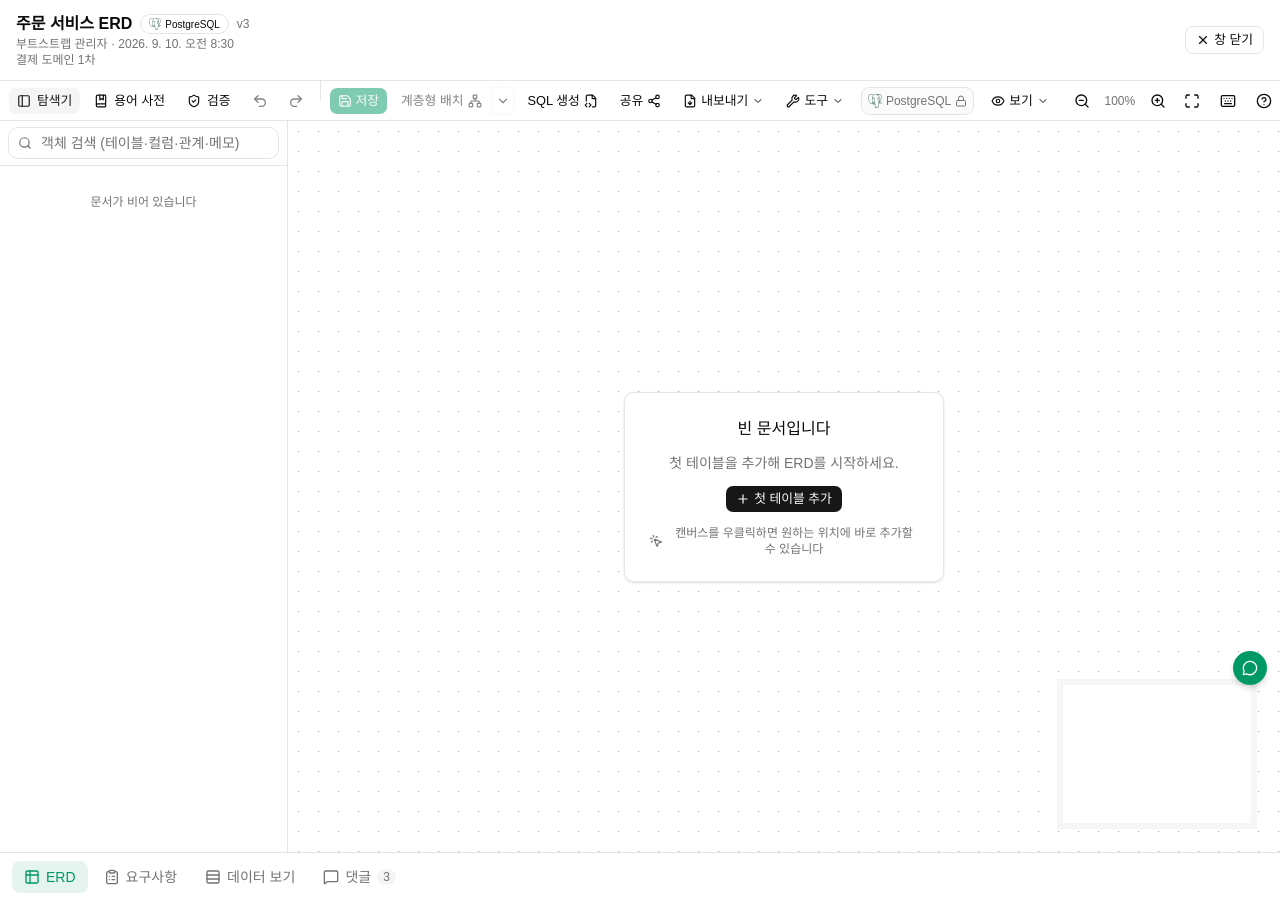
Test case: ERD 문서 열기 › shows feedback without any share link and offers owner reply
This screenshot has width=1280, height=900.
Expected: the heading "주문 서비스 ERD" is shown, [16,12,132,36]
Click the tab "댓글 3".
click(360, 876)  # box [311,860,408,892]
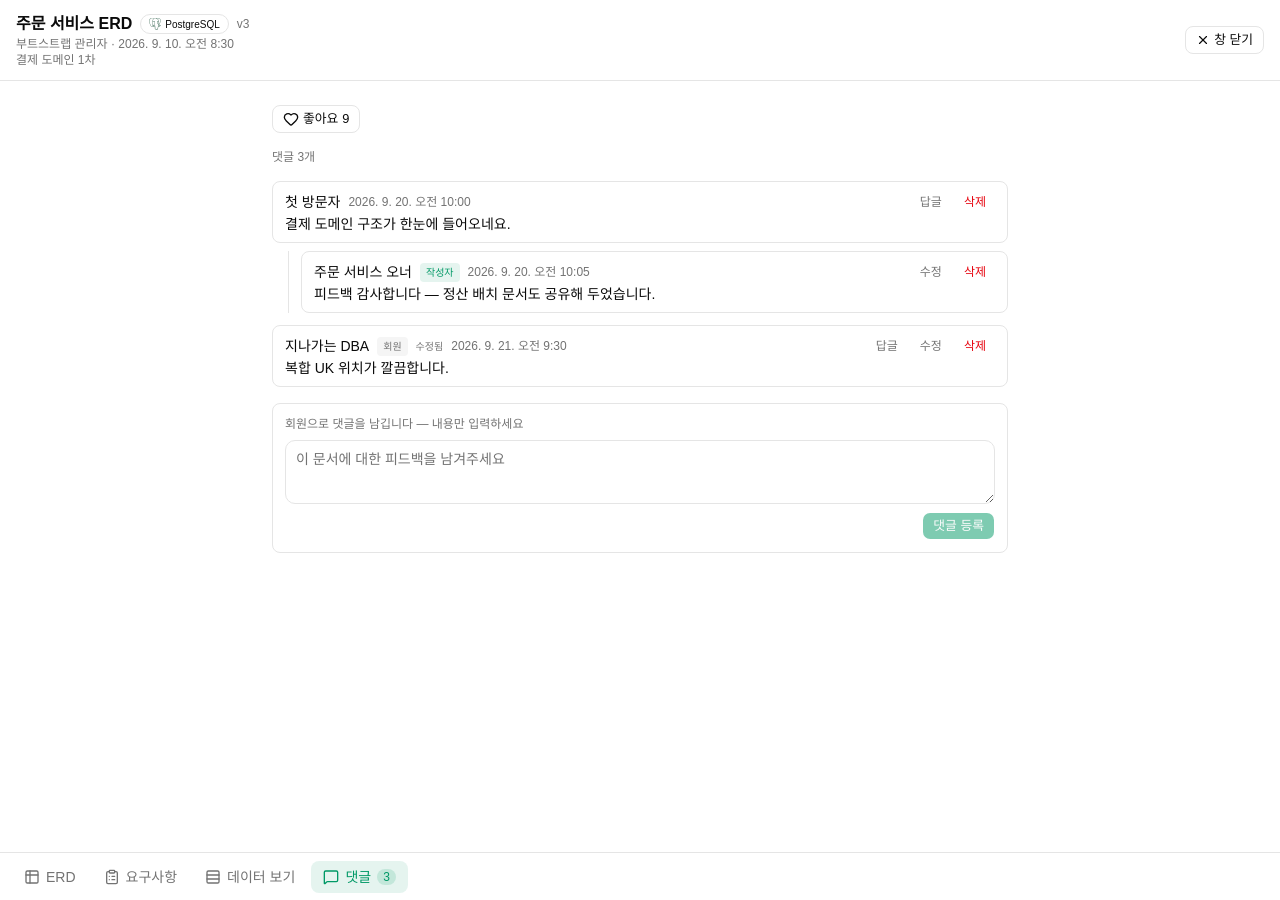
Now the element with test id "share-feedback-section" is shown
Now the element with test id "share-feedback-form" is shown, box [272,403,1008,553]
Click the button with test id "share-comment-reply-button".
click(931, 202)  # box [911,190,951,214]
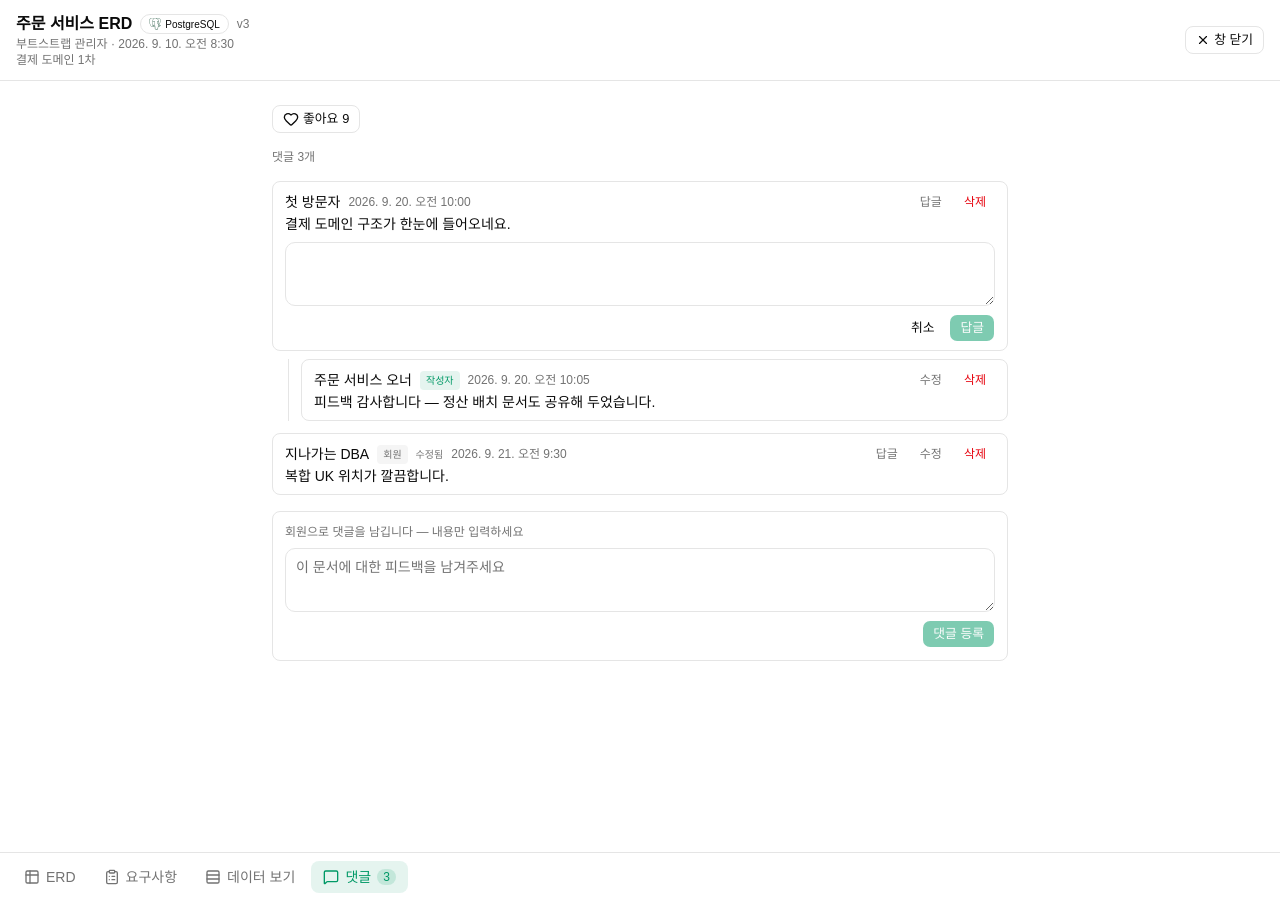
Now the element with test id "share-comment-reply-form" is shown, box [285,242,995,342]
